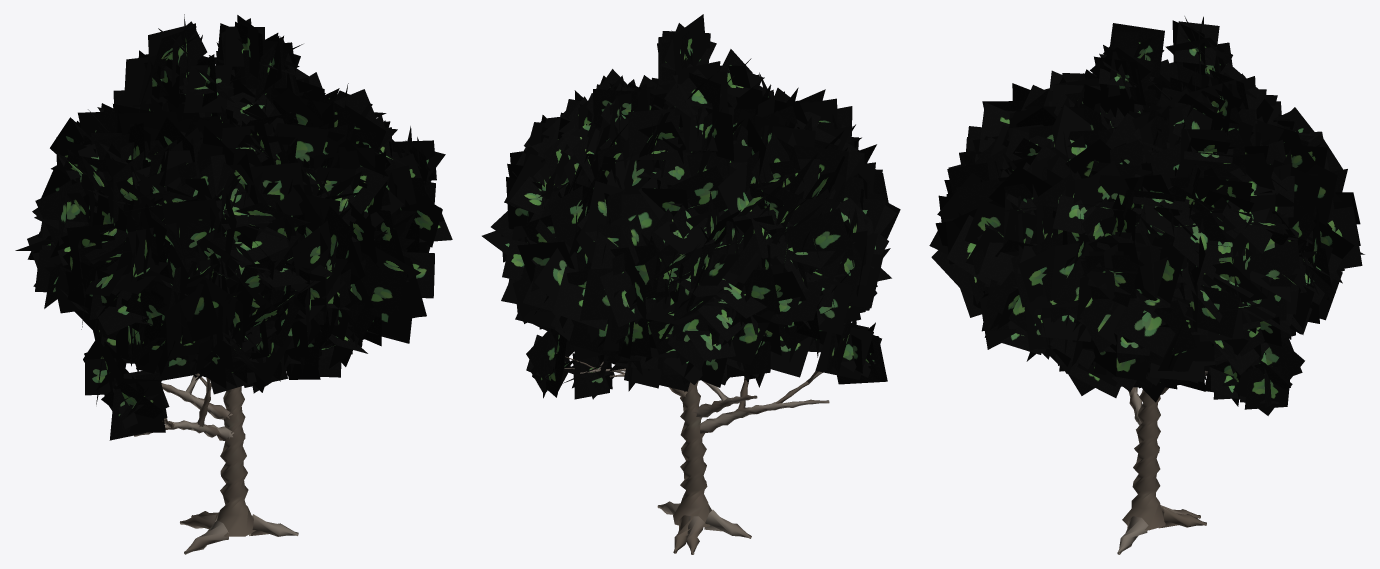
Rendered from SM_Tree_Broadleaf_05.fbx.
3 views of the same model, side by side, from view 1: azimuth 30°, elevation 25°; view 2: azimuth 150°, elevation 25°; view 3: azimuth 270°, elevation 25° (orthographic). The views are drawn at different scales.
Visible parts, largest first — view 1: SM_Tree_Broadleaf_05; view 2: SM_Tree_Broadleaf_05; view 3: SM_Tree_Broadleaf_05.
Part boxes in pixels (x1,y1,x2,y2): SM_Tree_Broadleaf_05: (15,14,452,554); SM_Tree_Broadleaf_05: (482,14,900,554); SM_Tree_Broadleaf_05: (929,16,1364,554).
Size of the model in its own units: 6.74 by 9.35 by 7.23.
